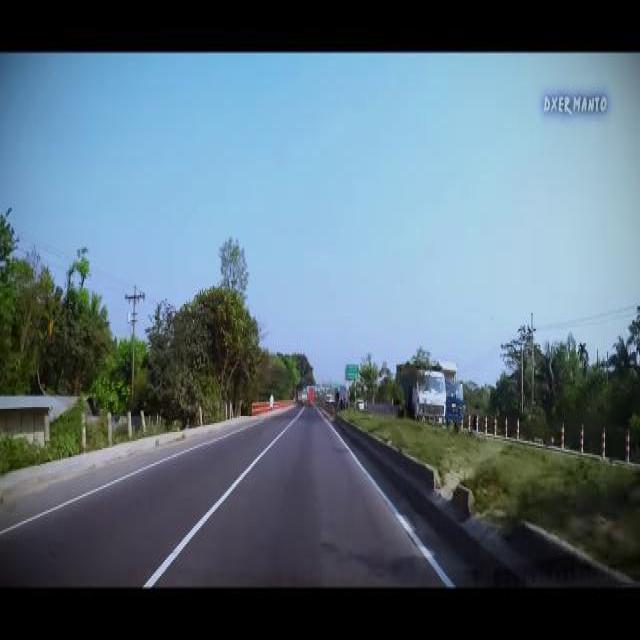truck: (395, 361, 447, 423), (442, 357, 465, 434), (306, 384, 315, 407)
